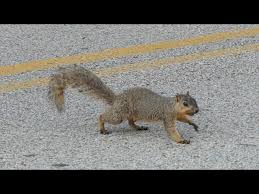squirrel: (47, 61, 202, 145)
